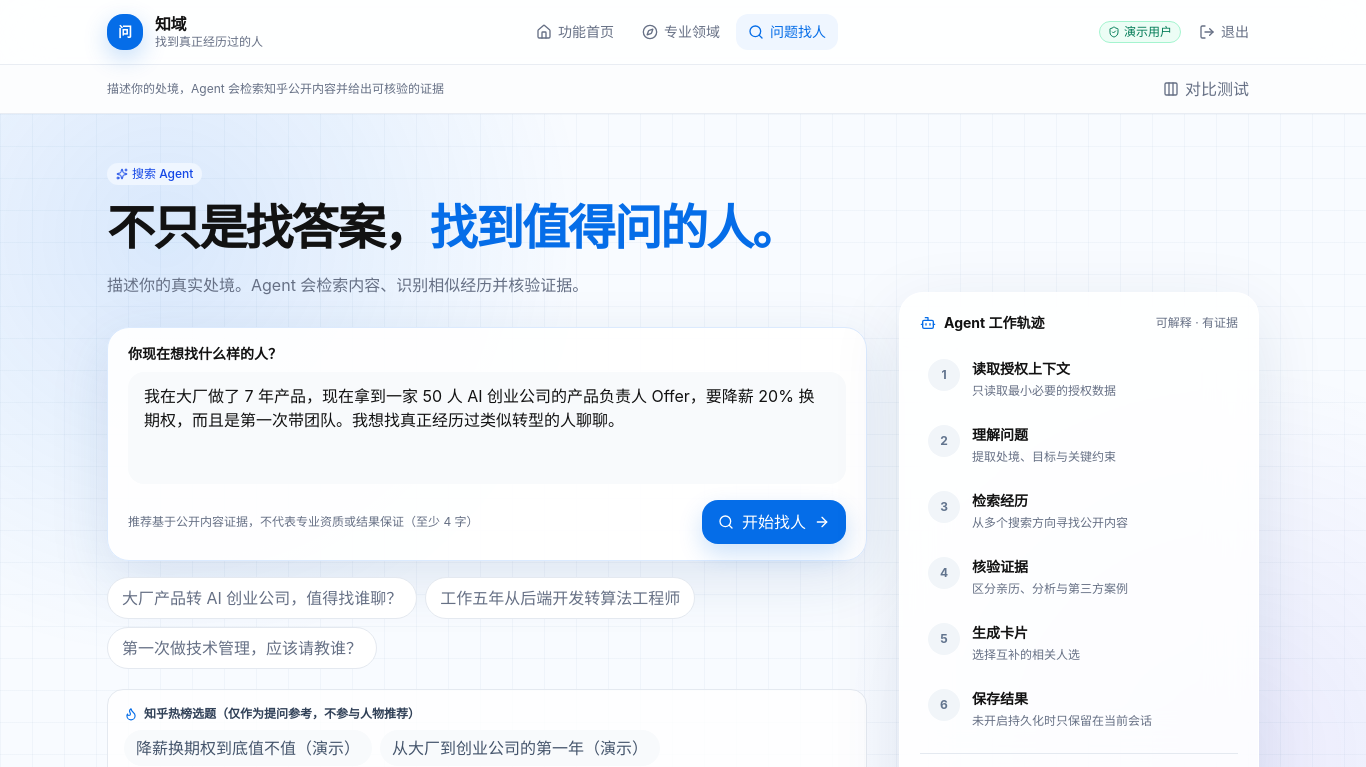
it: 人物卡与结果摘要 › 展示头像占位字、角色、相关度、维度与推荐理由
Click the button "开始找人" at (774, 522), box [702,500,846,544]
(page scrolled)
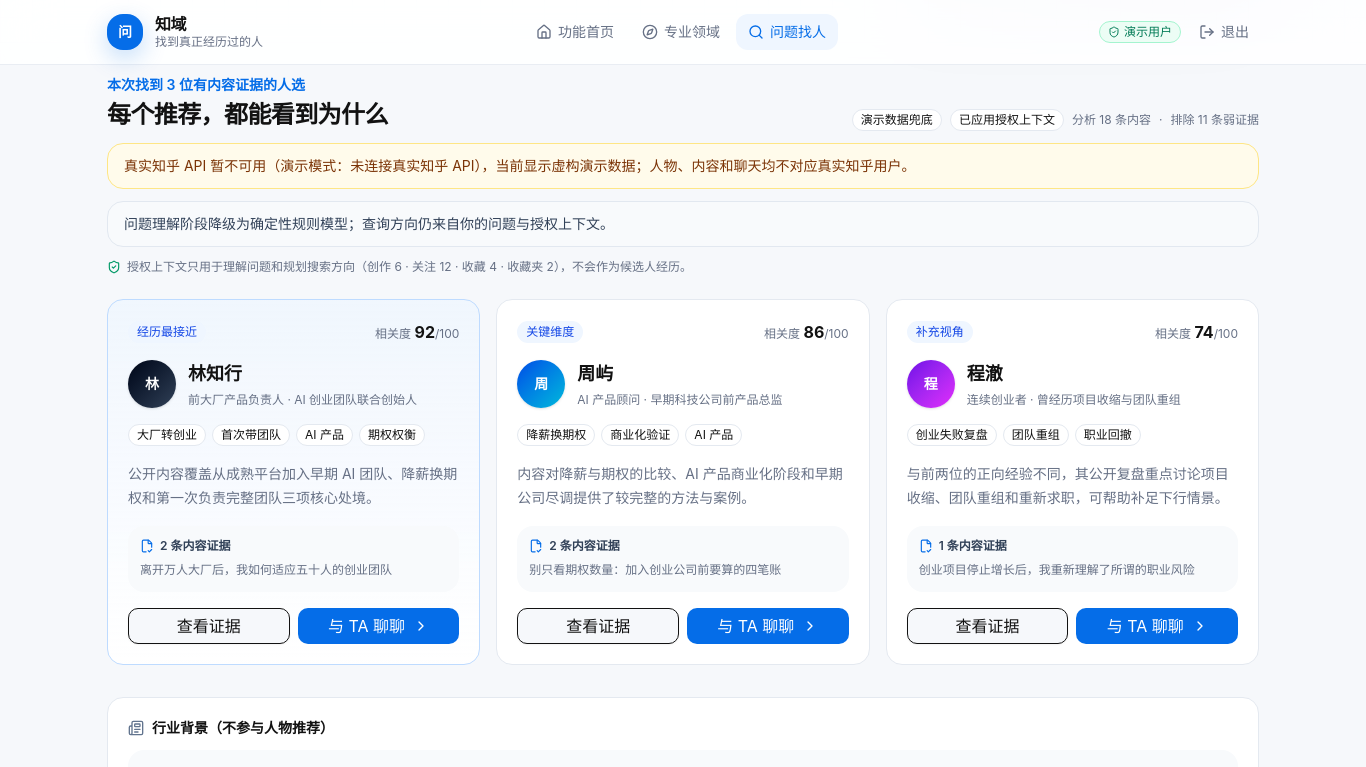
Now the text "林知行" is shown, box [188,363,242,384]
Now the text "前大厂产品负责人 · AI 创业团队联合创始人" is shown, box [188,392,417,408]
Now the text "经历最接近" is shown, box [128,321,206,343]
